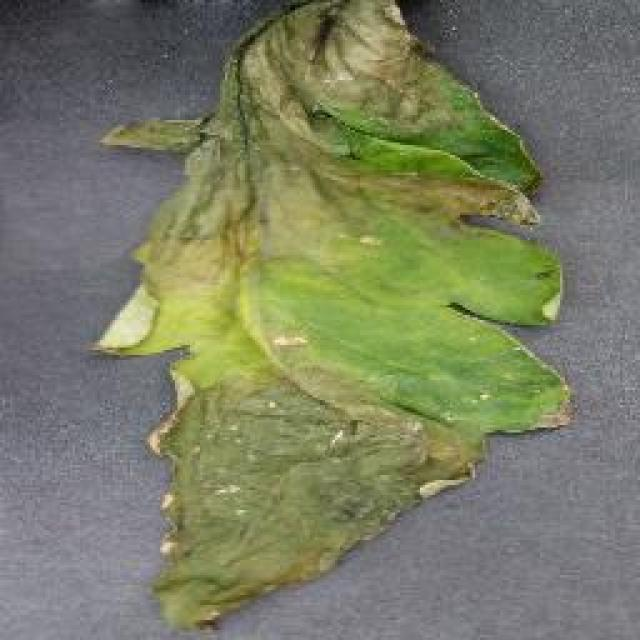Tomato Late Blight: (178, 70, 434, 622)
